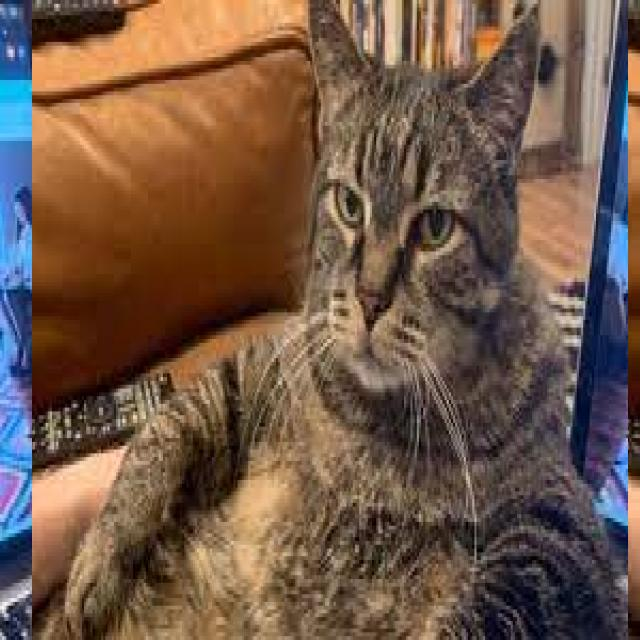cat: (32, 0, 628, 640)
